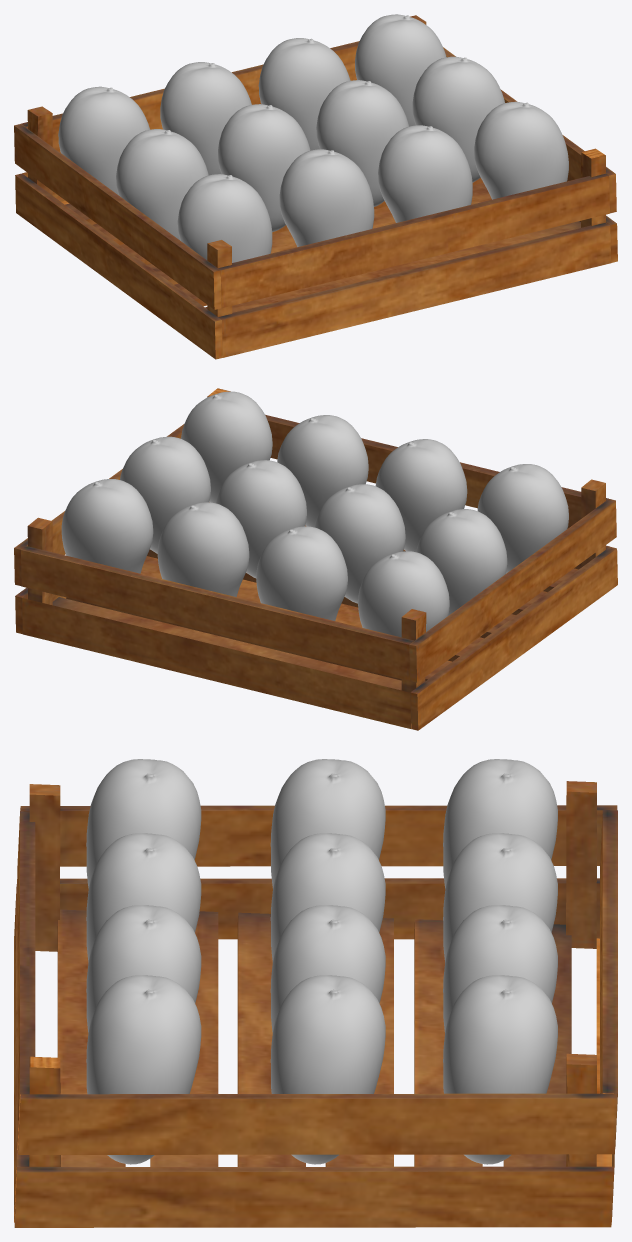
File: Mango.fbx
The picture shows the model from 3 angles, top to bottom: view 1: azimuth 30°, elevation 25°; view 2: azimuth 150°, elevation 25°; view 3: azimuth 270°, elevation 25°; orthographic projection. The views are drawn at different scales.
Parts seen in each view (by area): view 1: Rack.005, Mango.009, Mango.011, Mango.010, Mango.005, Mango.004, Mango.008, Mango.006, Mango.007, Mango, Mango.001, Mango.002 (+1 smaller); view 2: Rack.005, Mango.001, Mango.002, Mango.003, Mango.008, Mango.009, Mango.010, Mango.005, Mango.004, Mango.011, Mango, Mango.006 (+1 smaller); view 3: Rack.005, Mango.003, Mango.011, Mango.007, Mango.008, Mango, Mango.004, Mango.009, Mango.001, Mango.005, Mango.010, Mango.002 (+1 smaller).
Part boxes in pixels (bbox=[...]): Rack.005: bbox=[14, 15, 617, 359]; Mango.009: bbox=[279, 149, 374, 246]; Mango.011: bbox=[474, 101, 568, 199]; Mango.010: bbox=[378, 125, 472, 222]; Mango.005: bbox=[218, 104, 310, 231]; Mango.004: bbox=[116, 129, 208, 240]; Mango.008: bbox=[177, 174, 272, 262]; Mango.006: bbox=[316, 80, 408, 206]; Mango.007: bbox=[412, 56, 504, 182]; Mango: bbox=[58, 86, 149, 194]; Mango.001: bbox=[160, 62, 251, 175]; Mango.002: bbox=[258, 38, 350, 150]; Rack.005: bbox=[14, 388, 617, 730]; Mango.001: bbox=[256, 526, 347, 620]; Mango.002: bbox=[157, 502, 249, 596]; Mango.003: bbox=[61, 479, 153, 573]; Mango.008: bbox=[477, 464, 568, 573]; Mango.009: bbox=[375, 439, 467, 551]; Mango.010: bbox=[277, 415, 368, 527]; Mango.005: bbox=[314, 484, 405, 603]; Mango.004: bbox=[416, 509, 507, 615]; Mango.011: bbox=[181, 391, 272, 503]; Mango: bbox=[358, 551, 449, 637]; Mango.006: bbox=[216, 460, 306, 578]; Rack.005: bbox=[14, 781, 617, 1227]; Mango.003: bbox=[443, 975, 557, 1164]; Mango.011: bbox=[86, 975, 201, 1164]; Mango.007: bbox=[270, 975, 385, 1164]; Mango.008: bbox=[86, 759, 201, 888]; Mango: bbox=[443, 759, 557, 888]; Mango.004: bbox=[270, 759, 385, 887]; Mango.009: bbox=[86, 833, 201, 962]; Mango.001: bbox=[443, 833, 557, 962]; Mango.005: bbox=[270, 833, 385, 962]; Mango.010: bbox=[86, 905, 201, 1032]; Mango.002: bbox=[443, 905, 557, 1032].
Size of the model in its own units: 0.6471 by 0.2113 by 0.563.
